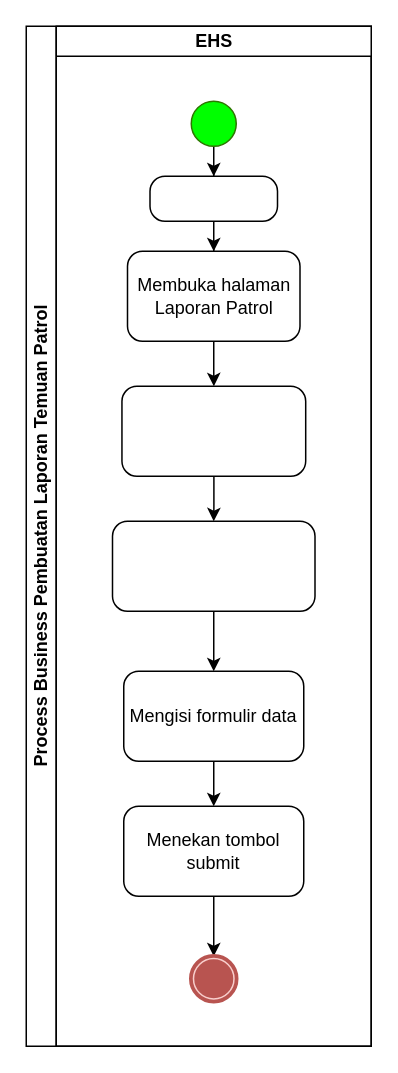
Image size: 398x1073. Some labels were removed from this diagram. Each missing label, with the box of its shape:
Login: (148, 175, 278, 221)
Menekan tombol buat temuan: (111, 520, 315, 611)
Menekan tombol see detail pada jadwal laporan patrol: (120, 385, 306, 476)
